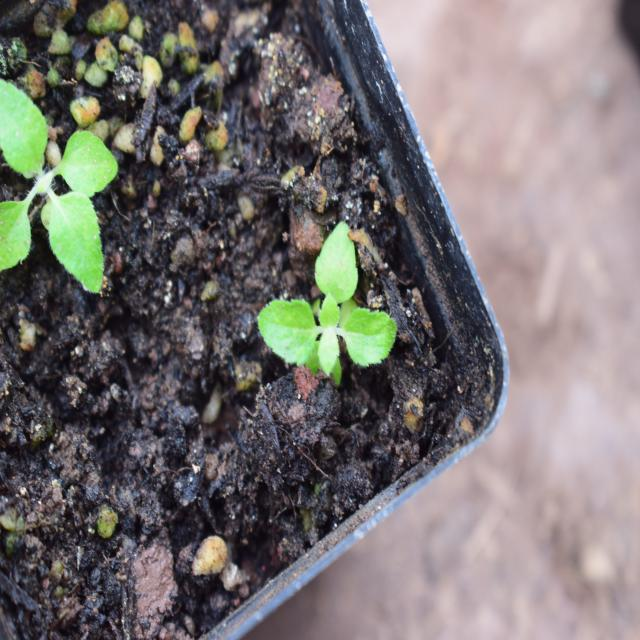billygoat_weed: (0, 64, 122, 300), (250, 225, 394, 384)
